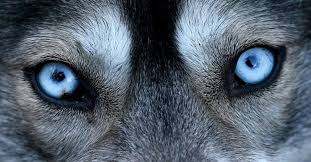Siberian Husky: (6, 2, 305, 162)
